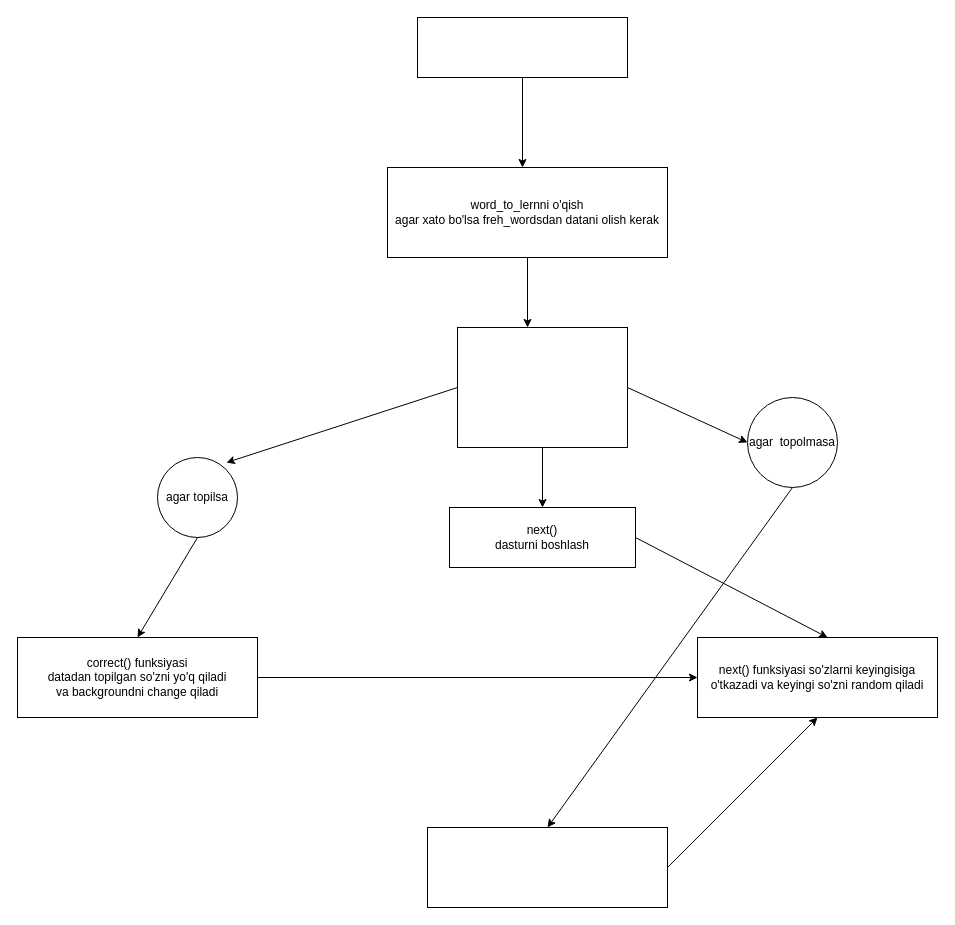
Some shapes in this 955 by 925 pixel diagram are drawn without their labels. Here are the shapes that lost their labels. From the top down, the centre of each, then its label:
At (x=522, y=47): "tkinter, random, pandas kutubxonalarni import qilish".
At (x=542, y=387): "tkinterdan foydalanib winodw yaratish".
At (x=547, y=867): "change_background() funksiyasini yaratish".
